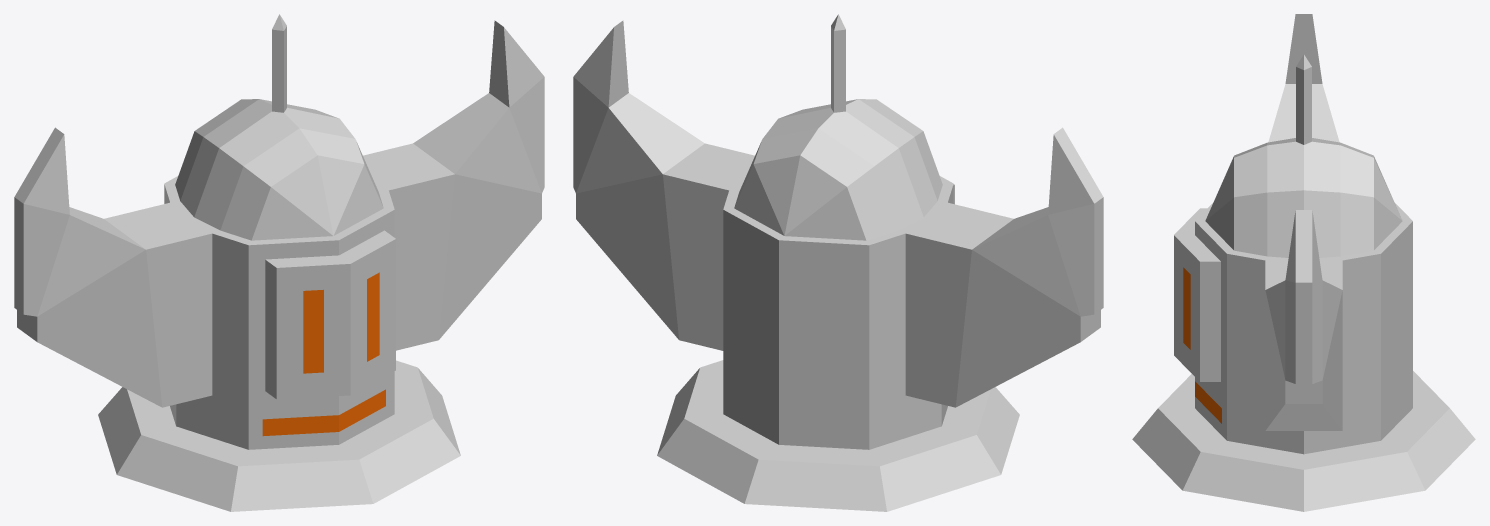
The model's file is RobotV3_Head.fbx.
3 views of the same model, side by side, from view 1: azimuth 30°, elevation 25°; view 2: azimuth 150°, elevation 25°; view 3: azimuth 270°, elevation 25° (orthographic). The views are drawn at different scales.
Parts seen in each view (by area): view 1: RobotFull.005; view 2: RobotFull.005; view 3: RobotFull.005.
Boxes of the visible parts, box(x1,y1,x2,y2) form: RobotFull.005: box(14, 14, 544, 511); RobotFull.005: box(573, 14, 1103, 511); RobotFull.005: box(1132, 14, 1475, 511).
Size of the model in its own units: 63.95 by 49.41 by 39.95.
